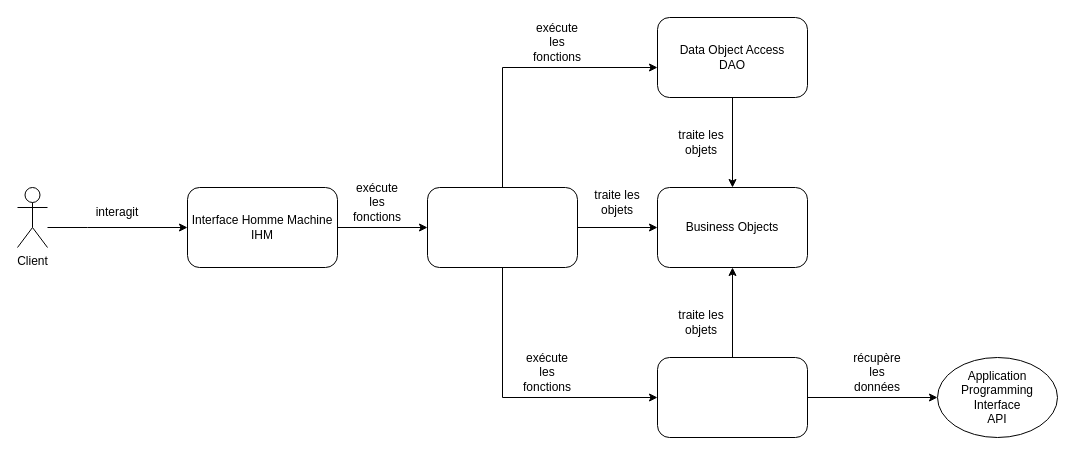
Some shapes in this 1075 by 455 pixel diagram are drawn without their labels. The centre of each missing label's shape, as x and y in pixels:
"Service" goes at (x=502, y=227).
"Web" goes at (x=732, y=397).
